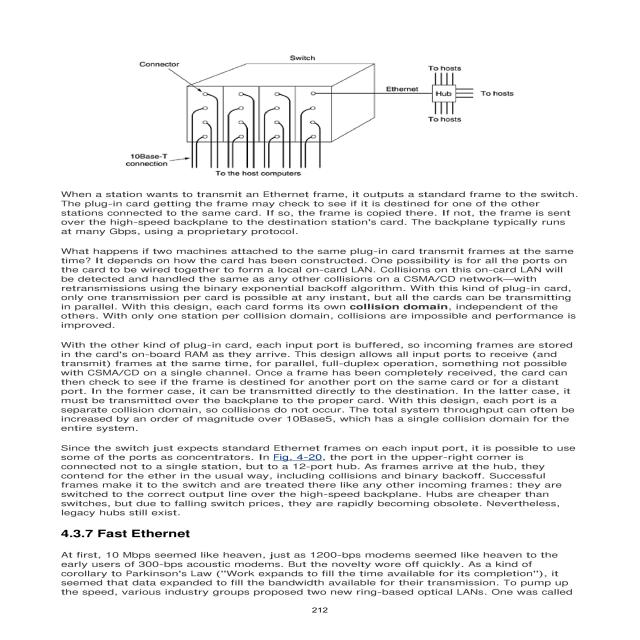diagram: (52, 38, 578, 240)
